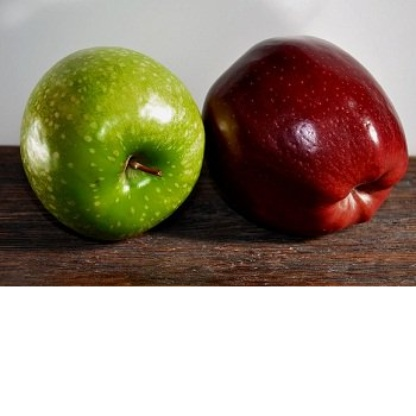tao: (200, 20, 408, 252), (14, 33, 205, 234)
